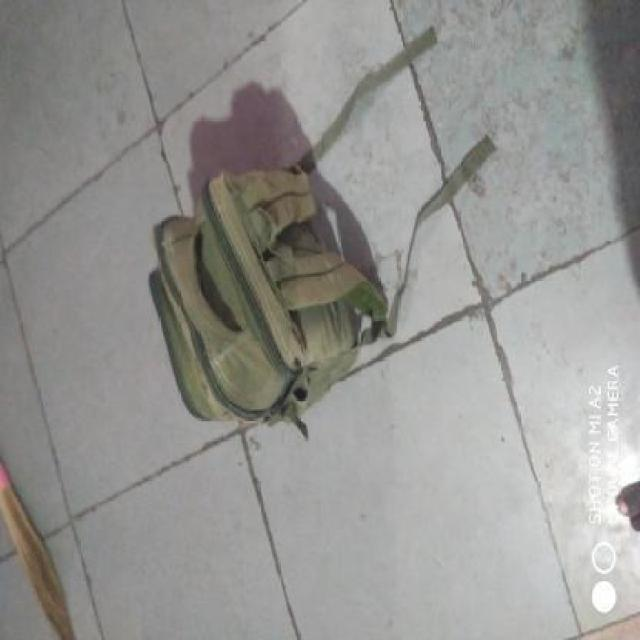backpack: (143, 156, 402, 444)
